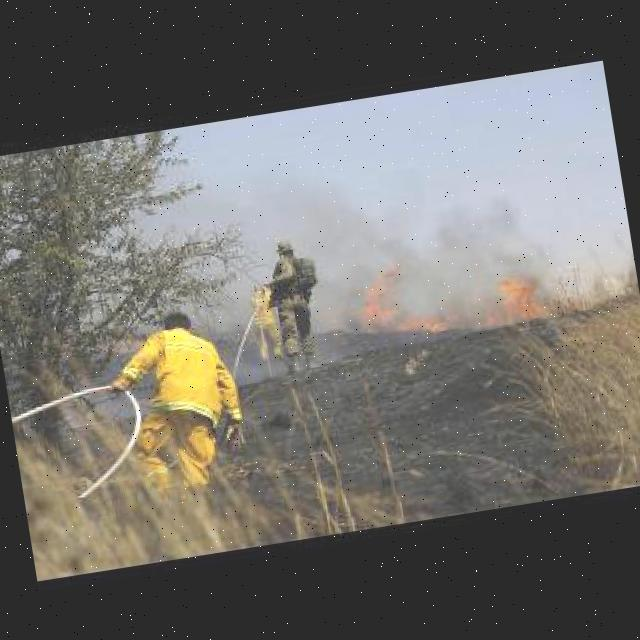Fire: (350, 262, 454, 346), (472, 270, 570, 328)
Smoke: (299, 177, 544, 317)
